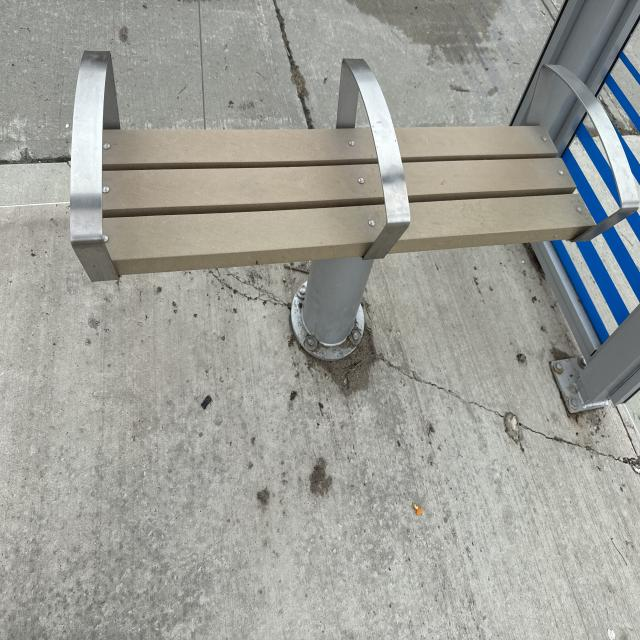Bench: (75, 38, 617, 375)
